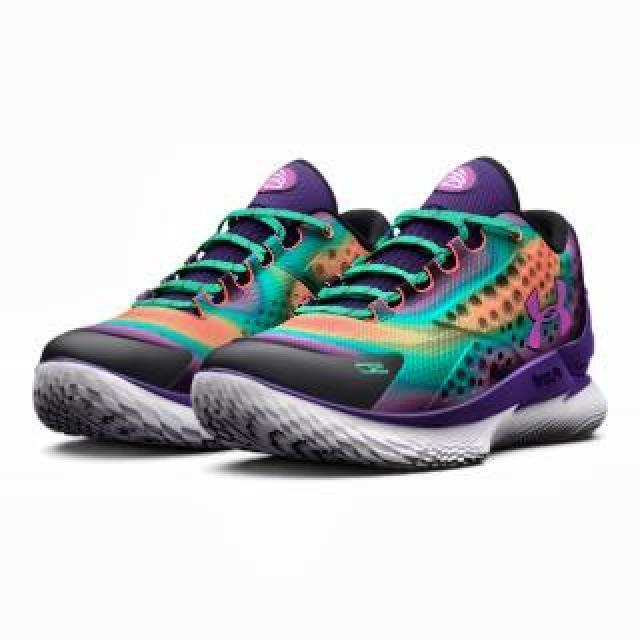shoes: (193, 156, 607, 468), (31, 160, 429, 446)
